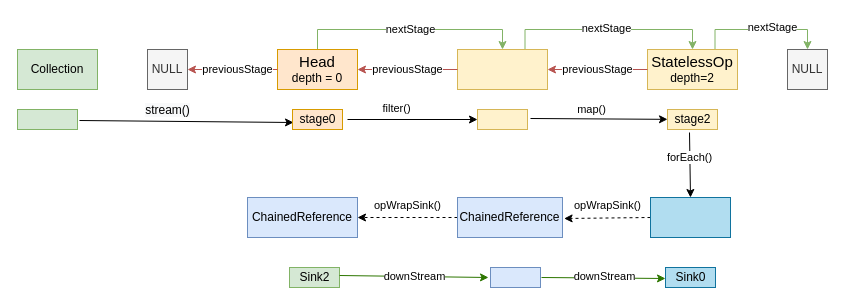
The diagram is 845 pixels wide and 305 high, and some of its shapes have lost their labels. The centre of each missing label's shape, as x and y in pixels:
"ArrayList" belongs at point (47, 119).
"ForEachOp" belongs at point (690, 217).
"Sink1" belongs at point (515, 277).
"stage1" belongs at point (502, 119).
"StatelessOp depth=1" belongs at point (502, 69).
